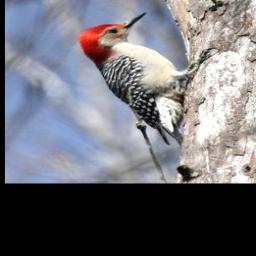Woodpecker: (73, 9, 228, 151)
